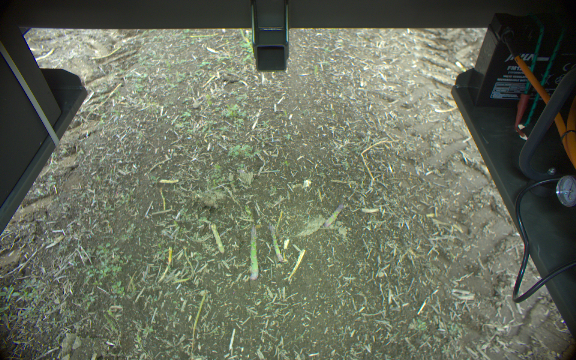aspa: (248, 224, 261, 281), (266, 223, 283, 264), (207, 221, 226, 256), (322, 202, 344, 230)
